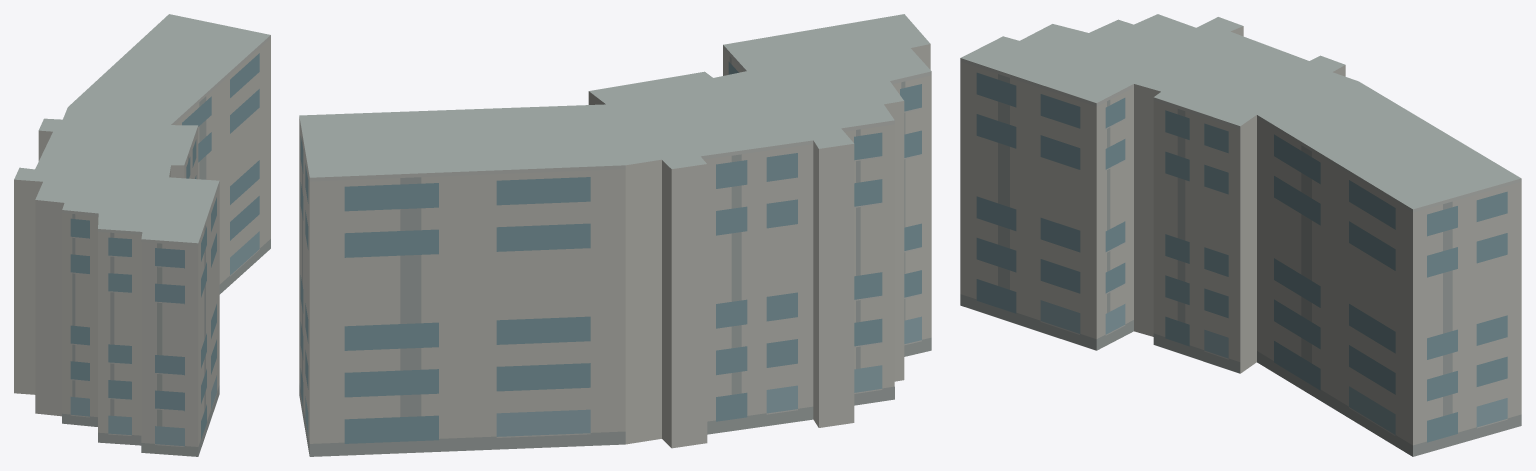
File: survey-upis-32720013.glb
The picture shows the model from 3 angles, left to right: view 1: azimuth 30°, elevation 25°; view 2: azimuth 150°, elevation 25°; view 3: azimuth 270°, elevation 25°; orthographic projection. The views are drawn at different scales.
Visible parts, largest first — view 1: survey-upis-32720013.tmp; view 2: survey-upis-32720013.tmp; view 3: survey-upis-32720013.tmp.
Part boxes in pixels (x1,y1,x2,y2): survey-upis-32720013.tmp: (14,14,270,456); survey-upis-32720013.tmp: (299,14,931,456); survey-upis-32720013.tmp: (960,14,1521,456).
Bounding box in the file's own units: 29.98 × 17.7 × 36.37.
